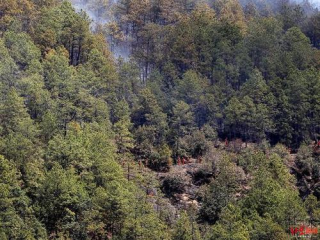smoke: (64, 2, 148, 68)
